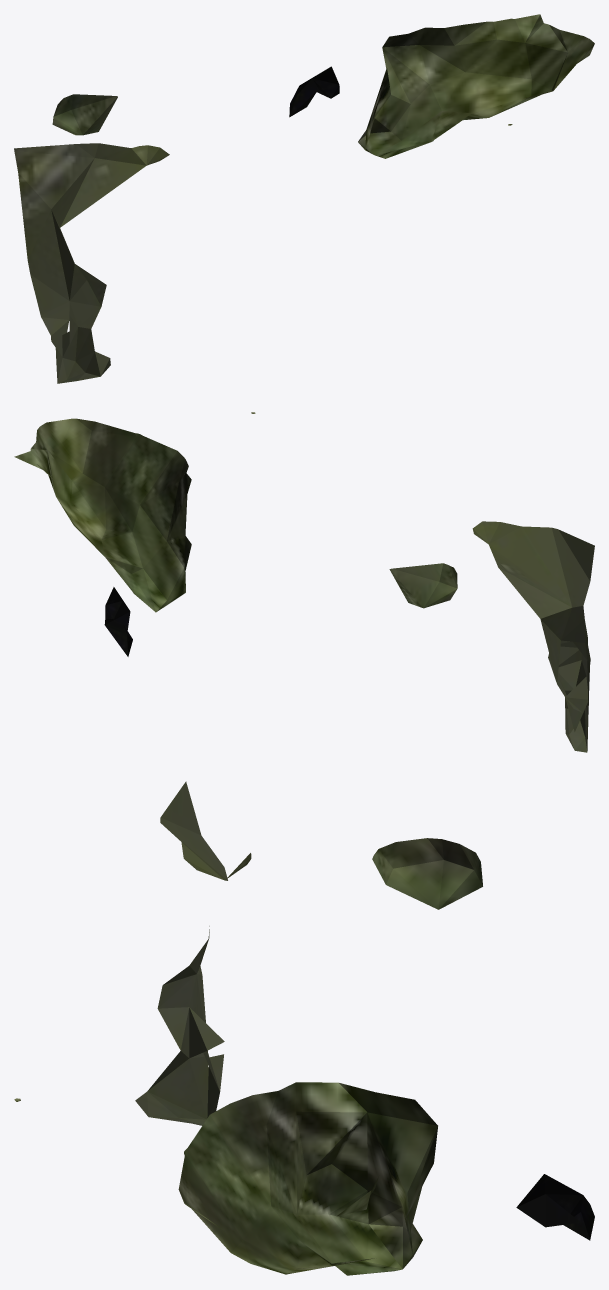
3 renders of one model, top to bottom at view 1: azimuth 30°, elevation 25°; view 2: azimuth 150°, elevation 25°; view 3: azimuth 270°, elevation 25°, orthographic. The views are drawn at different scales.
Bounding box in the file's own units: 2.25 × 0.8092 × 1.26.
Materials: 1 (1 with a texture image).
